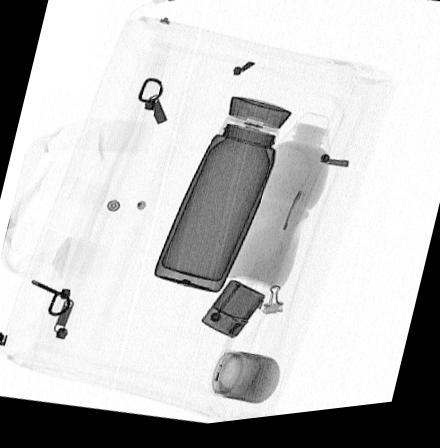Lighter: (201, 284, 266, 343)
